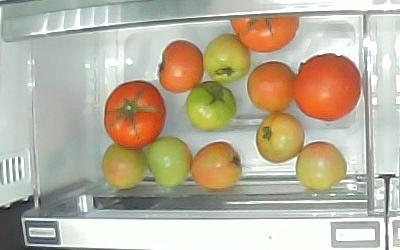tomato: (294, 53, 362, 122), (104, 80, 166, 148), (230, 15, 300, 53), (296, 140, 347, 191), (191, 141, 244, 190), (187, 81, 236, 131), (255, 114, 305, 163), (247, 61, 295, 112), (158, 40, 204, 93), (203, 34, 252, 81), (148, 137, 192, 188), (101, 144, 148, 189)
